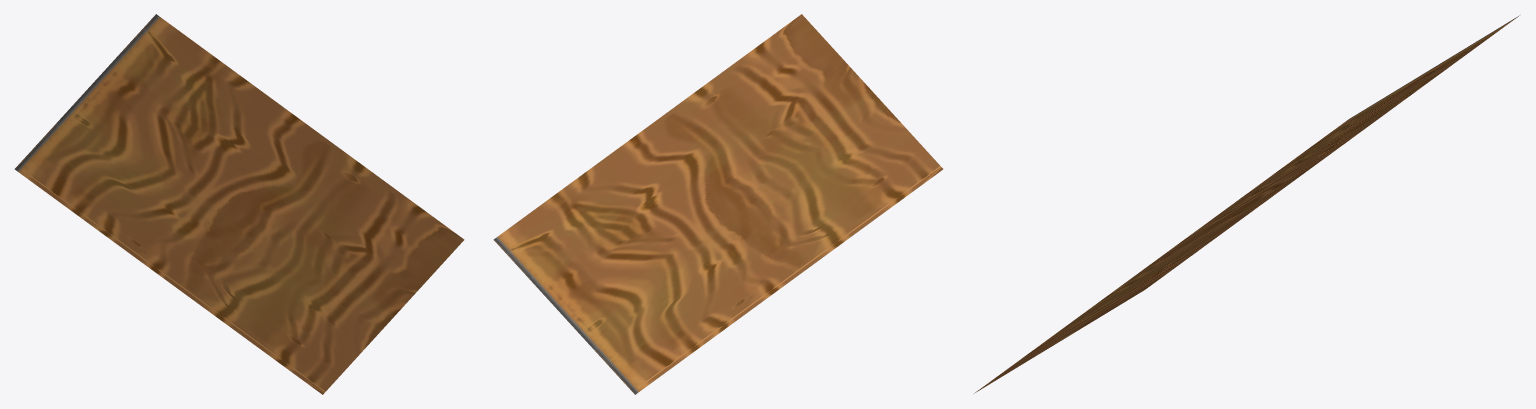
3 renders of one model, left to right at view 1: azimuth 30°, elevation 25°; view 2: azimuth 150°, elevation 25°; view 3: azimuth 330°, elevation 25°, orthographic. The views are drawn at different scales.
Parts seen in each view (by area): view 1: Cube.561; view 2: Cube.561; view 3: Cube.561.
Boxes of the visible parts, <box> form: Cube.561: <box>14,14,464,394</box>; Cube.561: <box>493,14,943,394</box>; Cube.561: <box>974,15,1519,393</box>.
Bounding box in the file's own units: 335 × 273 × 1263.
Materials: 1 (1 with a texture image).
